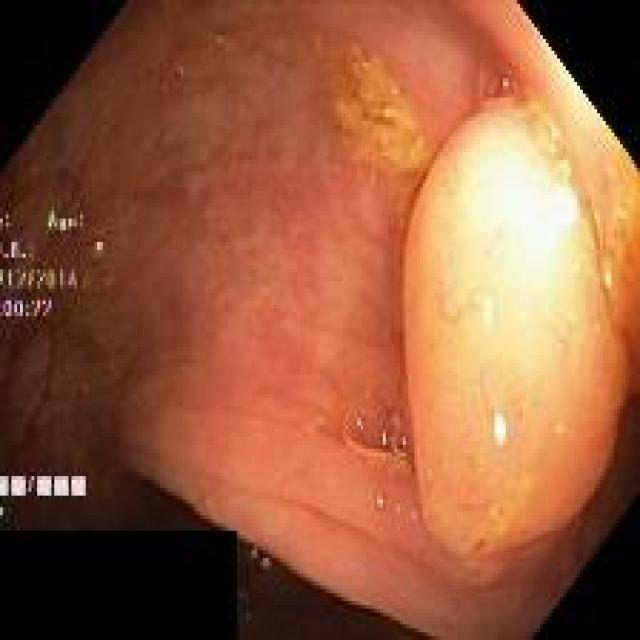Polyps: (405, 106, 628, 554)
